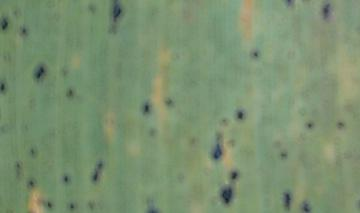tarspot: (112, 1, 122, 33), (212, 134, 223, 158), (221, 186, 233, 203), (93, 162, 103, 182), (322, 2, 332, 22), (35, 64, 45, 80), (146, 203, 160, 213), (284, 190, 291, 209), (87, 199, 96, 213), (142, 101, 151, 114), (87, 2, 97, 13), (1, 18, 9, 31), (302, 200, 310, 213), (147, 128, 157, 138), (165, 97, 174, 108), (336, 119, 346, 128), (16, 163, 22, 177), (230, 171, 238, 181), (279, 150, 287, 160), (1, 81, 7, 94), (63, 174, 70, 185), (67, 88, 75, 97), (220, 117, 229, 125), (237, 110, 244, 120), (306, 121, 313, 130), (30, 148, 36, 158), (46, 201, 53, 209), (252, 51, 259, 59), (284, 1, 295, 6), (21, 26, 27, 35), (28, 178, 34, 187), (70, 203, 75, 209)
